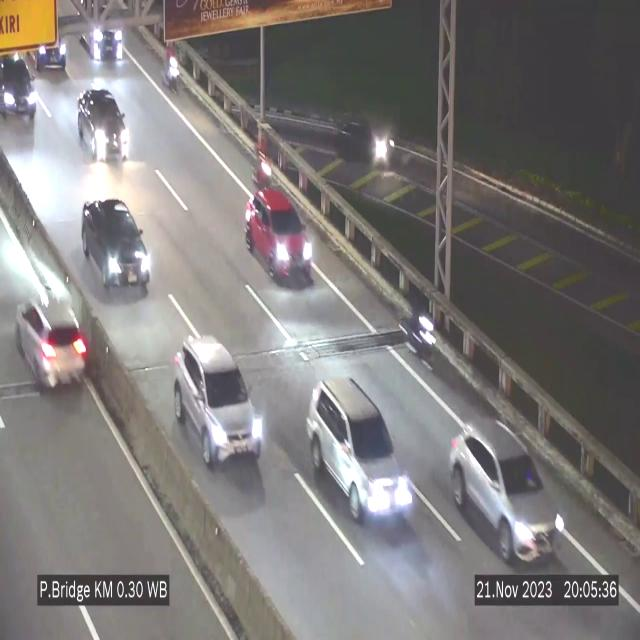Car: (307, 375, 413, 524), (449, 424, 561, 562), (174, 338, 265, 468), (83, 196, 157, 300), (244, 186, 316, 286), (78, 86, 129, 166)
Motorcycle: (406, 299, 436, 368), (252, 130, 274, 191), (162, 36, 179, 98)
